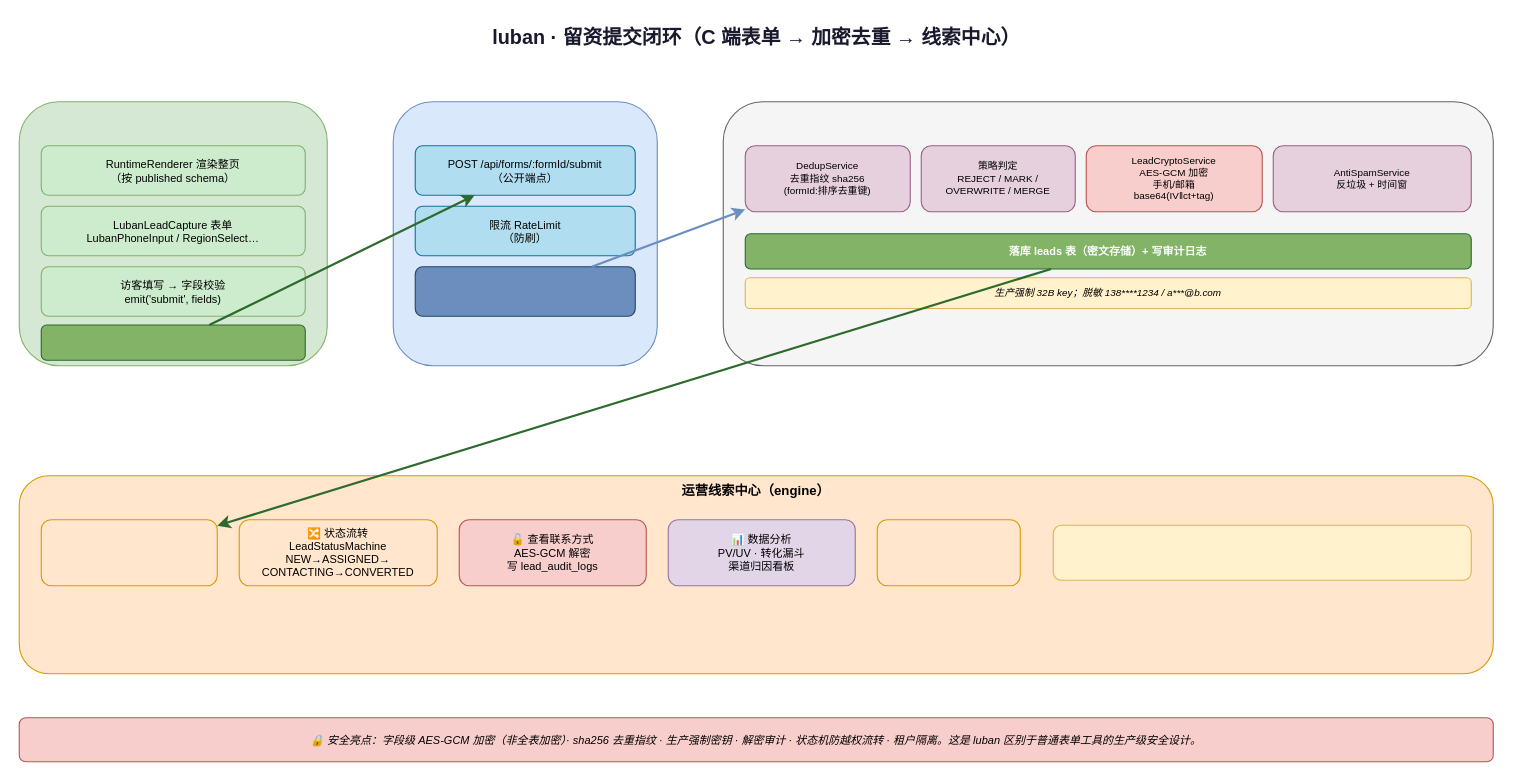
Some shapes in this 1513 by 781 pixel diagram are drawn without their labels. The shapes that lost their labels are listed below. From the top down, each one's box as (x1, y1, x2, y2) in pixels, then its label:
(18, 101, 327, 366): 访客端（website SSR）
(392, 101, 657, 366): BFF :3100
(722, 101, 1493, 366): Java 后端（publicside + shared）
(414, 266, 635, 316): callBackend → Java /lead/forms/:id/submit
(40, 324, 305, 360): useLeadSubmit.submit(formId, contact)
(40, 519, 217, 586): 📋 线索列表 按状态/渠道/表单筛选 去重后展示
(876, 519, 1020, 586): 📤 CSV 导出
(1052, 524, 1471, 580): 状态机强制合法转移（非法抛 409）；解密必写审计；全程按 siteId 租户隔离
